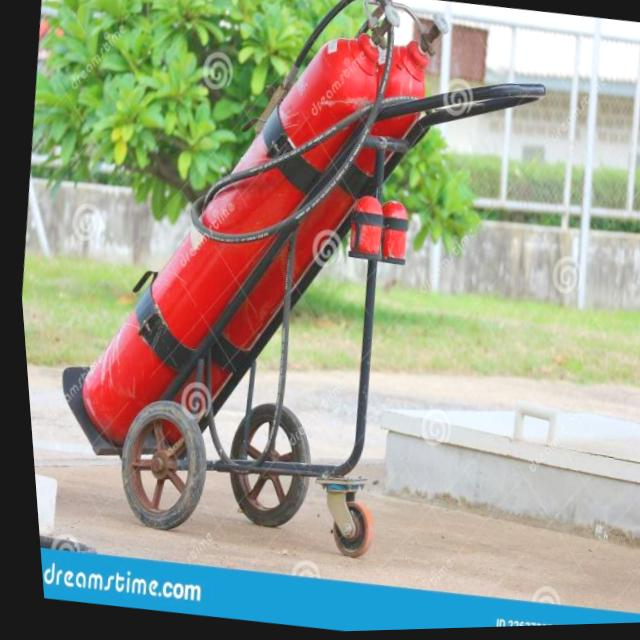FireExtinguisher: (88, 0, 482, 490), (40, 0, 433, 485)
